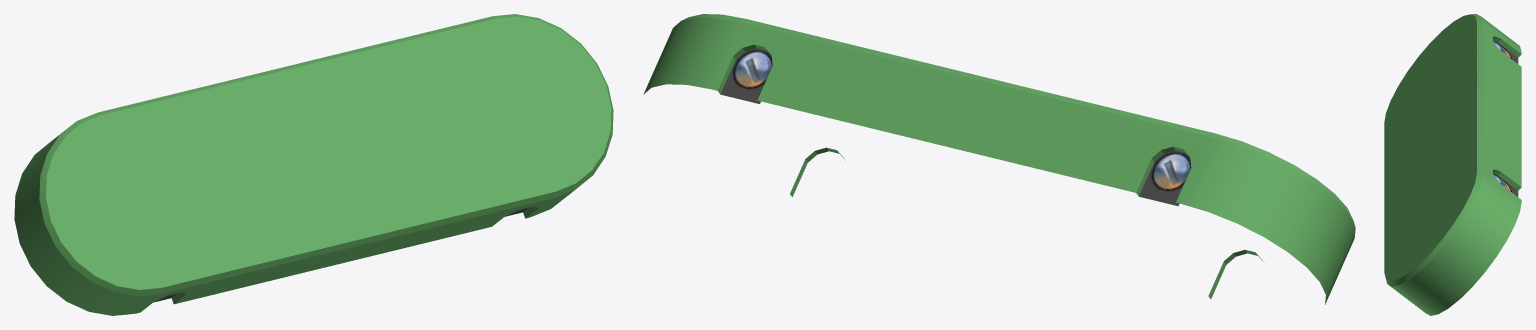
3 views of the same model, side by side, from view 1: azimuth 30°, elevation 25°; view 2: azimuth 150°, elevation 25°; view 3: azimuth 270°, elevation 25° (orthographic). The views are drawn at different scales.
Parts seen in each view (by area): view 1: Joint_0_Object_0; view 2: Joint_0_Object_0, Joint_0_Object_1; view 3: Joint_0_Object_0, Joint_0_Object_1.
Boxes of the visible parts, left/top/right/bottom form: Joint_0_Object_0: left=14, top=14, right=613, bottom=315; Joint_0_Object_0: left=643, top=14, right=1355, bottom=304; Joint_0_Object_1: left=720, top=48, right=1191, bottom=206; Joint_0_Object_0: left=1384, top=14, right=1521, bottom=315; Joint_0_Object_1: left=1493, top=40, right=1518, bottom=196.
Bounding box in the file's own units: 461 × 136 × 125.
2 materials, 1 textured.
